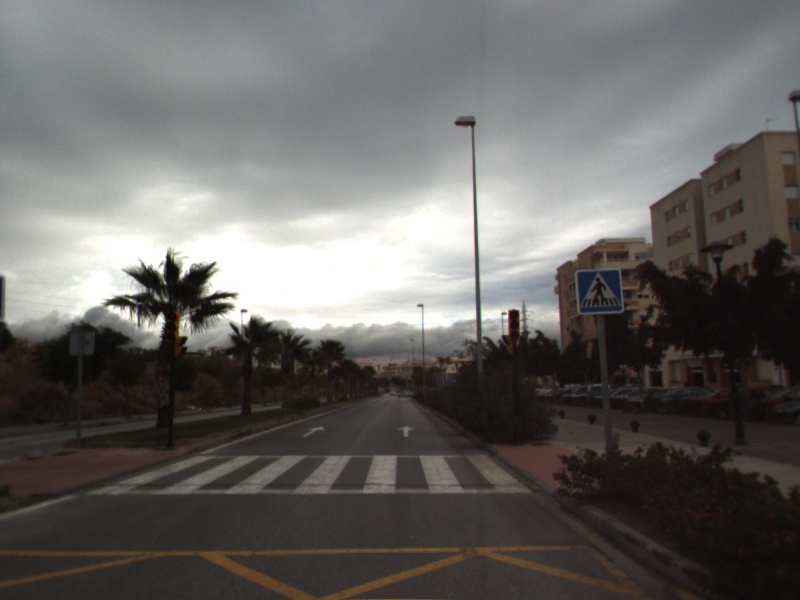STRAIGHT: (300, 424, 327, 439), (396, 424, 417, 439)
